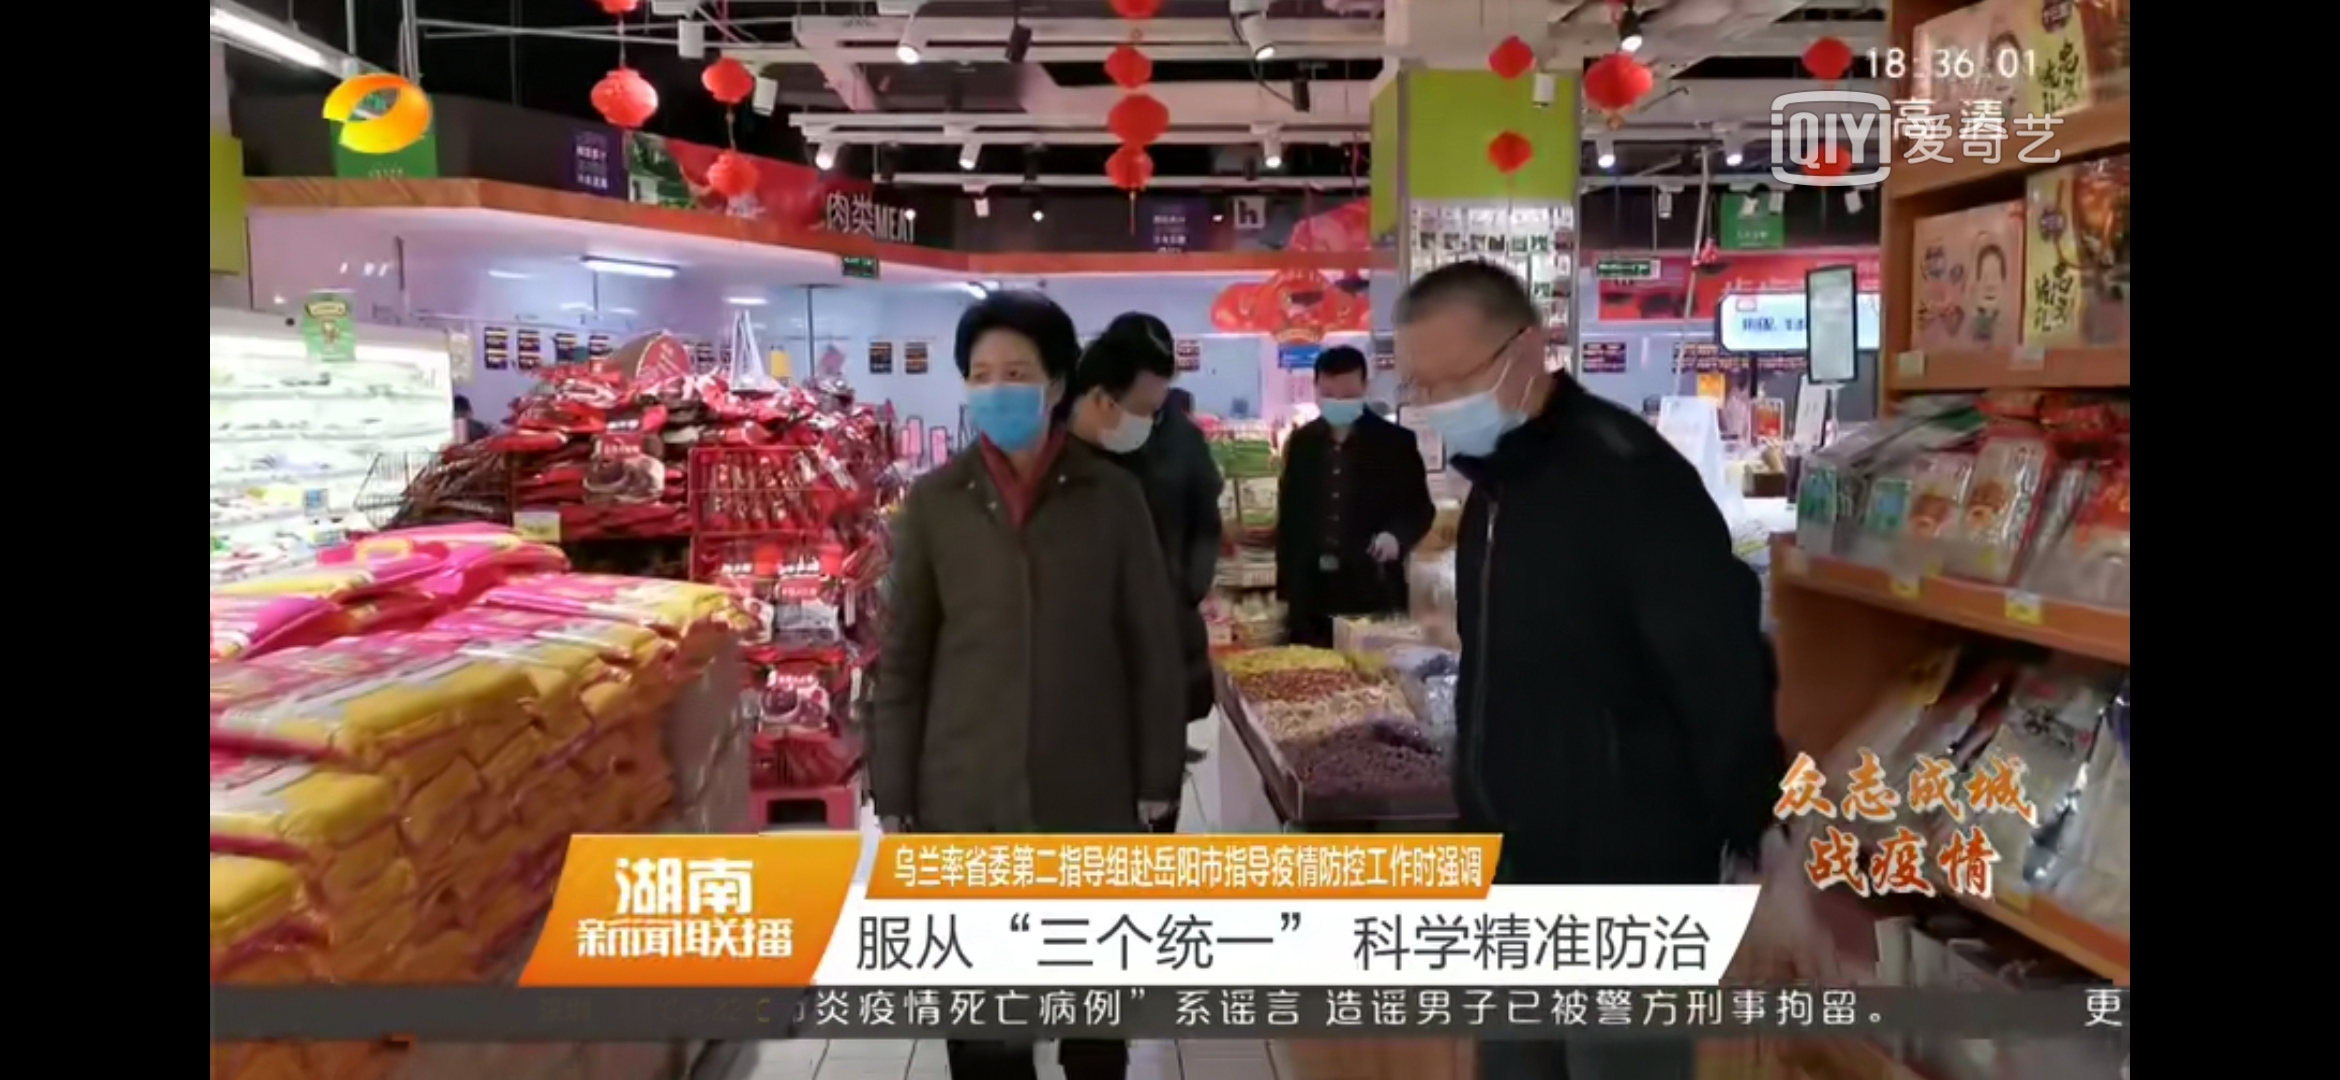correctlyWear: (1391, 331, 1539, 458), (963, 349, 1066, 456), (1089, 376, 1169, 455), (1312, 377, 1365, 427)
